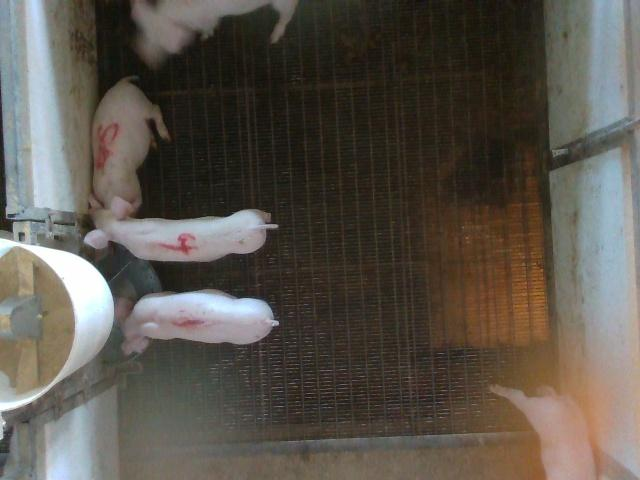pig-1: (114, 290, 279, 354)
pig-4: (84, 196, 278, 261)
pig-5: (92, 76, 170, 207)
